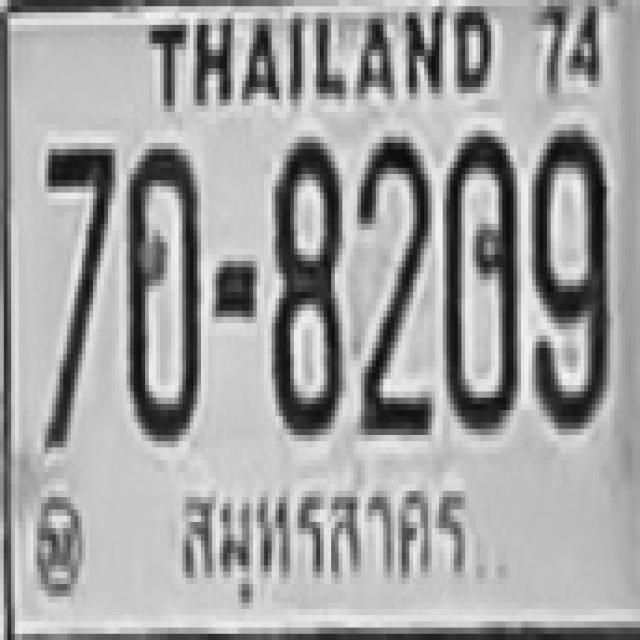0: (125, 143, 199, 435), (443, 127, 513, 426)
2: (355, 130, 430, 429)
7: (44, 143, 112, 441), (44, 143, 112, 367)
8: (272, 130, 338, 429)
9: (528, 124, 606, 423)
SamutSakhon: (165, 475, 482, 593)
